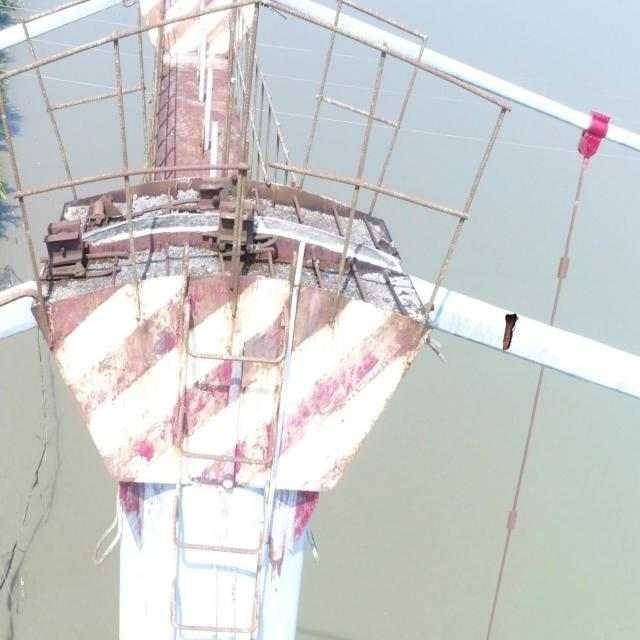corrosion: (502, 312, 519, 351)
